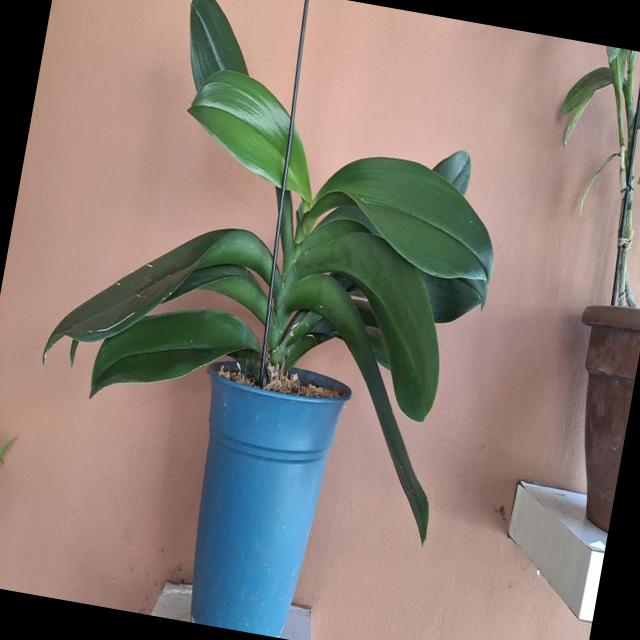leaf: (289, 276, 428, 540), (284, 225, 471, 421), (44, 227, 273, 347), (307, 154, 492, 280), (90, 307, 258, 390), (188, 69, 291, 184), (188, 0, 247, 89), (557, 66, 615, 141)
plant: (46, 0, 532, 600)
pot: (152, 333, 380, 640)
